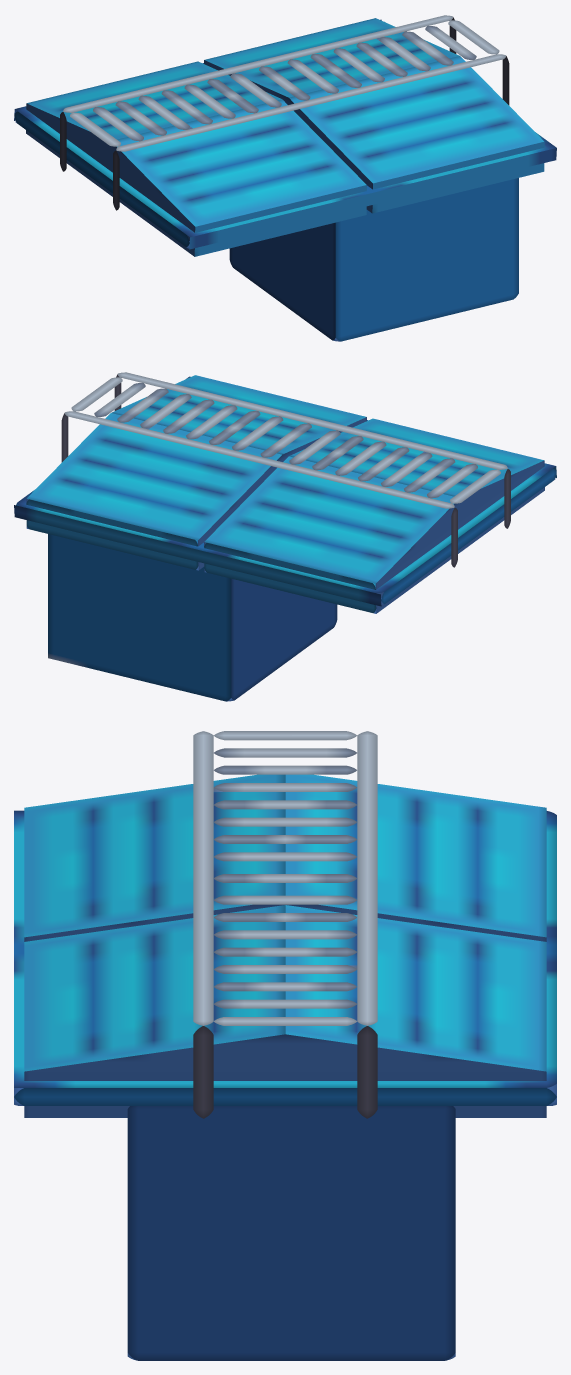
File: df5_cooling_fan.obj
The picture shows the model from 3 angles, top to bottom: view 1: azimuth 30°, elevation 25°; view 2: azimuth 150°, elevation 25°; view 3: azimuth 270°, elevation 25°; orthographic projection. The views are drawn at different scales.
Parts seen in each view (by area): view 1: cube_selection; view 2: cube_selection; view 3: cube_selection.
Part boxes in pixels (x1,y1,x2,y2): cube_selection: (14,15,556,341); cube_selection: (14,372,556,701); cube_selection: (14,731,556,1360).
Size of the model in its own units: 2.13 by 1.16 by 1.66.
